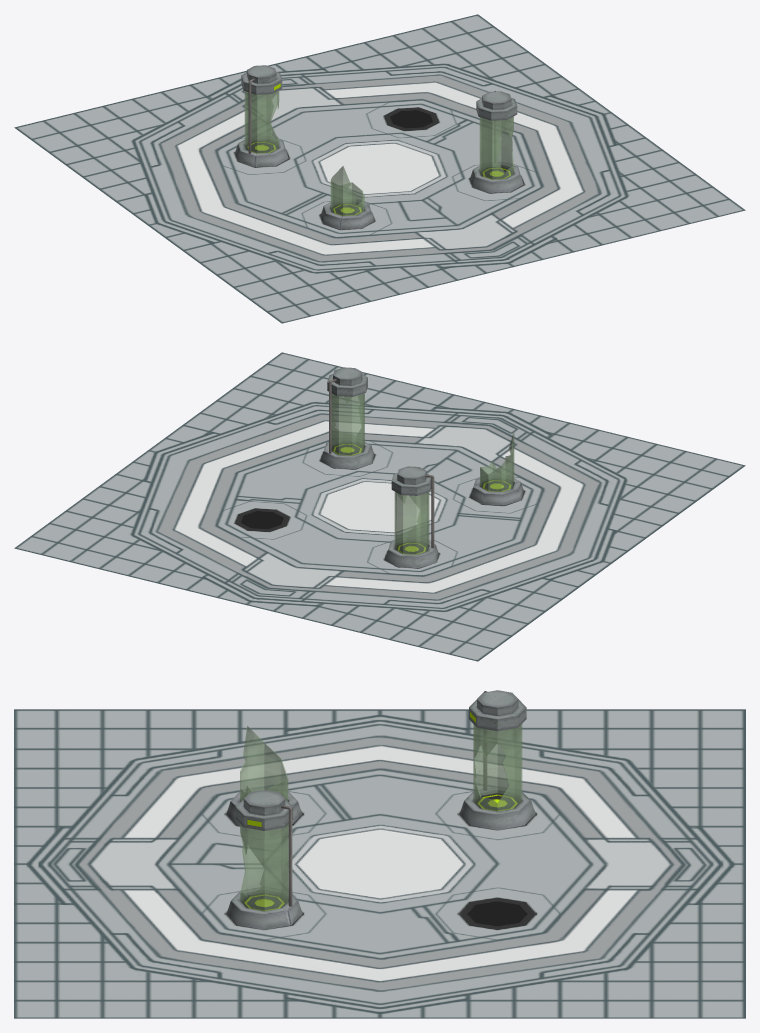
File: Planttile_M3.fbx
The picture shows the model from 3 angles, top to bottom: view 1: azimuth 30°, elevation 25°; view 2: azimuth 150°, elevation 25°; view 3: azimuth 270°, elevation 25°; orthographic projection. The views are drawn at different scales.
Parts seen in each view (by area): view 1: Plant_Floor, Plant_Obj003, Plant_Obj1, Plant_Obj2; view 2: Plant_Floor, Plant_Obj1, Plant_Obj003, Plant_Obj2; view 3: Plant_Floor, Plant_Obj003, Plant_Obj1, Plant_Obj2.
Part boxes in pixels (<box>): Plant_Floor: <box>14,14,745,323</box>; Plant_Obj003: <box>470,91,523,192</box>; Plant_Obj1: <box>235,65,288,166</box>; Plant_Obj2: <box>320,166,374,229</box>; Plant_Floor: <box>14,352,745,661</box>; Plant_Obj1: <box>385,466,438,568</box>; Plant_Obj003: <box>321,367,374,469</box>; Plant_Obj2: <box>470,433,523,505</box>; Plant_Floor: <box>14,709,745,1018</box>; Plant_Obj003: <box>226,790,302,929</box>; Plant_Obj1: <box>460,690,535,829</box>; Plant_Obj2: <box>226,726,301,825</box>.
Size of the model in its own units: 750 by 130 by 750.
3 materials, 3 textured.
